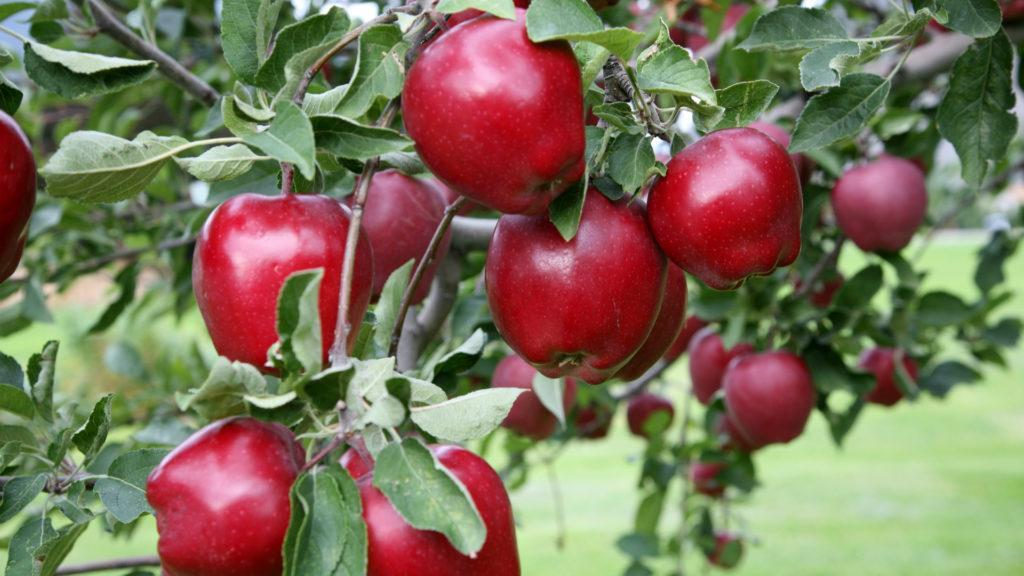apple: (401, 15, 585, 216), (484, 189, 674, 379), (192, 191, 375, 377), (647, 126, 806, 290), (147, 417, 306, 575), (339, 445, 522, 576)
